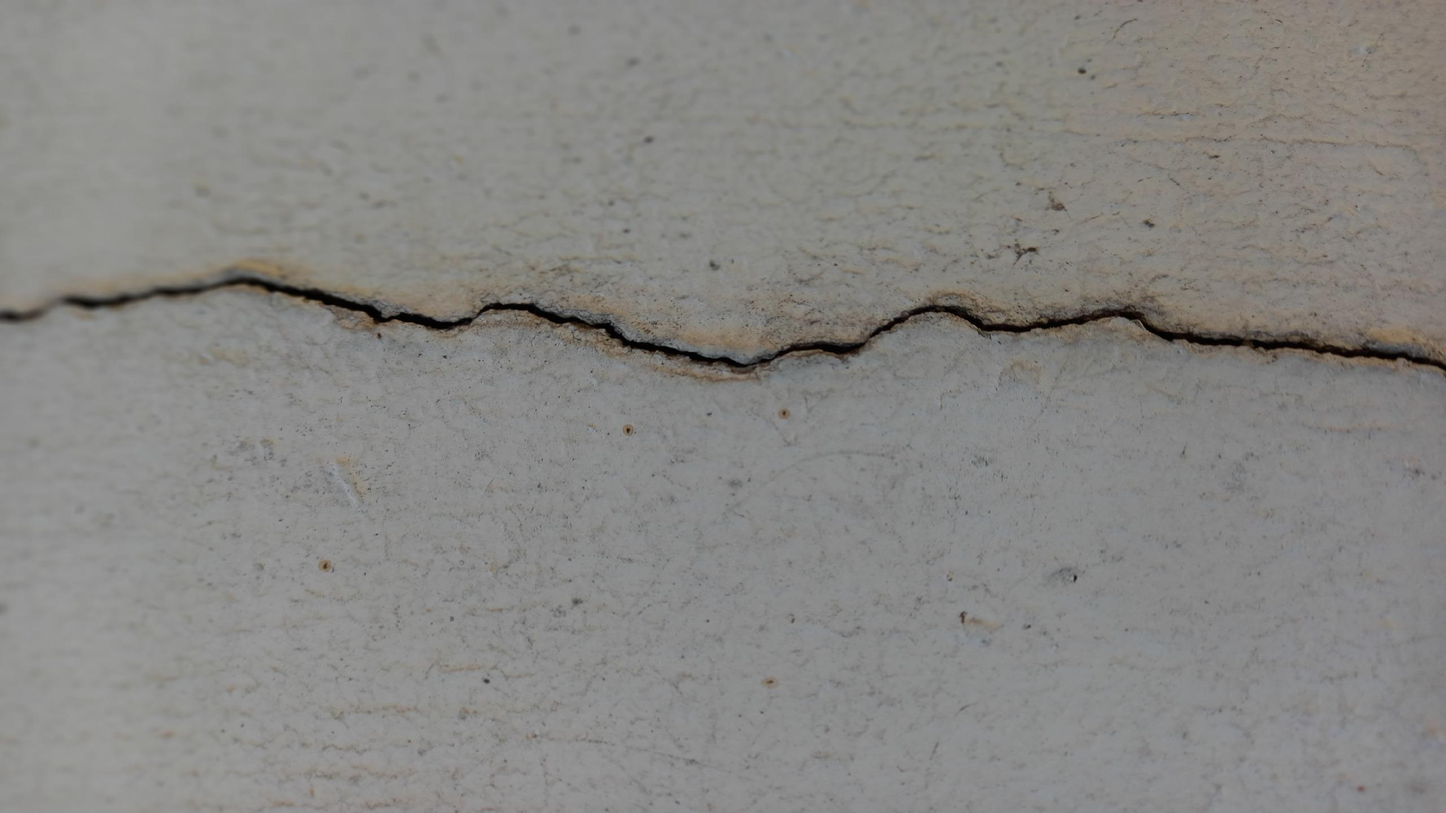crack: (19, 262, 1445, 380)
